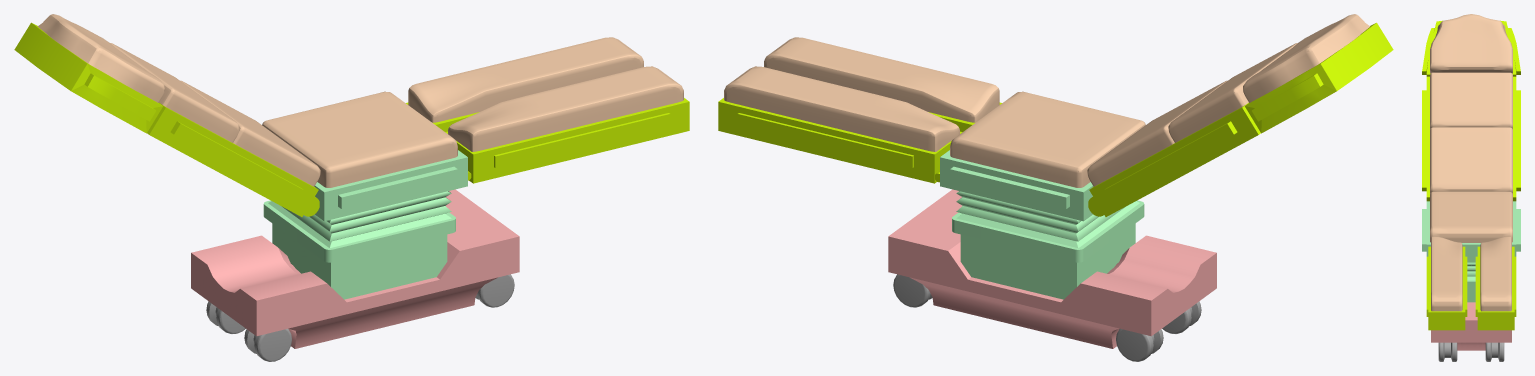
File: Operating_Table.fbx
3 views of the same model, side by side, from view 1: azimuth 30°, elevation 25°; view 2: azimuth 150°, elevation 25°; view 3: azimuth 270°, elevation 25° (orthographic). The views are drawn at different scales.
Parts seen in each view (by area): view 1: polySurface12, polySurface11, polySurface10, polySurface16, polySurface13, polySurface17, polySurface8, polySurface4, polySurface3, polySurface7, polySurface9, Operating_Table_Wheel3 (+2 smaller); view 2: polySurface12, polySurface11, polySurface10, polySurface13, polySurface16, polySurface14, polySurface8, polySurface4, polySurface3, polySurface7, polySurface9, Operating_Table_Wheel2 (+2 smaller); view 3: polySurface7, polySurface9, polySurface3, polySurface10, polySurface13, polySurface16, polySurface8, polySurface12, polySurface14, polySurface17, polySurface11, polySurface4 (+2 smaller).
Boxes of the visible parts, x1,y1,x2,y2 form: polySurface12: [191, 189, 519, 348]; polySurface11: [263, 150, 467, 299]; polySurface10: [262, 91, 457, 187]; polySurface16: [448, 66, 683, 151]; polySurface13: [408, 37, 643, 122]; polySurface17: [445, 98, 689, 183]; polySurface8: [147, 102, 318, 216]; polySurface4: [14, 22, 162, 133]; polySurface3: [38, 14, 164, 102]; polySurface7: [180, 80, 320, 186]; polySurface9: [110, 43, 239, 142]; Operating_Table_Wheel3: [244, 328, 291, 361]; polySurface12: [888, 189, 1216, 348]; polySurface11: [940, 150, 1144, 299]; polySurface10: [950, 91, 1145, 187]; polySurface13: [724, 66, 959, 151]; polySurface16: [764, 37, 999, 122]; polySurface14: [718, 98, 962, 183]; polySurface8: [1089, 102, 1260, 216]; polySurface4: [1245, 22, 1393, 133]; polySurface3: [1243, 14, 1369, 102]; polySurface7: [1087, 80, 1227, 186]; polySurface9: [1168, 43, 1297, 142]; Operating_Table_Wheel2: [1116, 328, 1163, 361]; polySurface7: [1430, 127, 1512, 193]; polySurface9: [1430, 72, 1512, 129]; polySurface3: [1430, 14, 1512, 73]; polySurface10: [1430, 191, 1512, 242]; polySurface13: [1480, 236, 1511, 311]; polySurface16: [1431, 236, 1462, 311]; polySurface8: [1422, 76, 1520, 201]; polySurface12: [1431, 302, 1511, 350]; polySurface14: [1475, 246, 1516, 330]; polySurface17: [1426, 246, 1467, 330]; polySurface11: [1422, 201, 1520, 302]; polySurface4: [1422, 20, 1520, 76].
Size of the model in its own units: 164 by 92.08 by 36.75.
